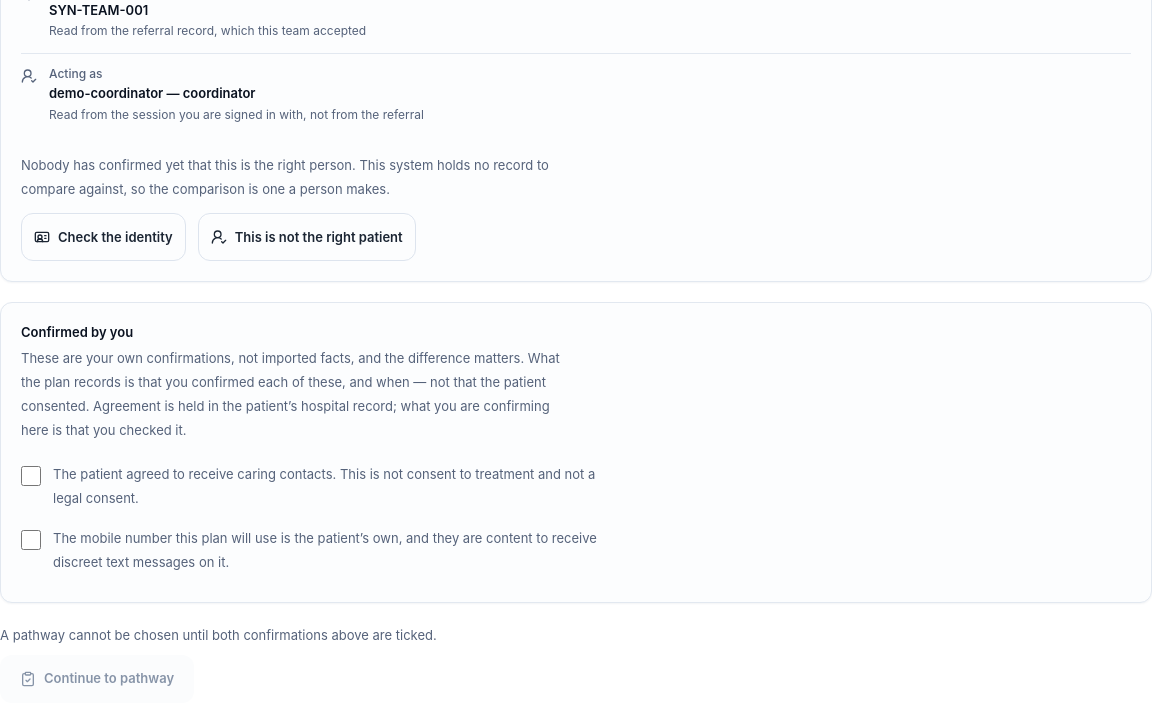
Test: the caring-contacts plan wizard — stage 1, agreement (Ruling [112]) › shows roles in plain words, never as the domain's identifiers
(page scrolled)
Click the 1st checkbox at (31, 476), box [21,466,41,486]
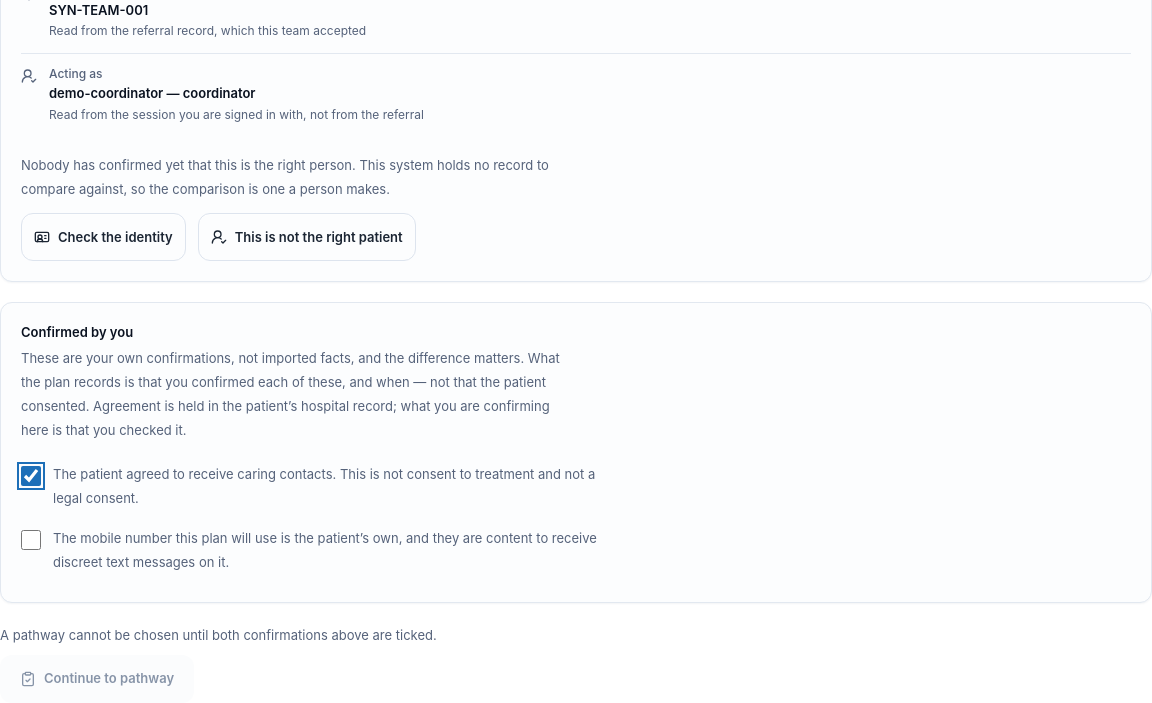
Click the 2nd checkbox at (31, 540), box [21,530,41,550]
(page scrolled)
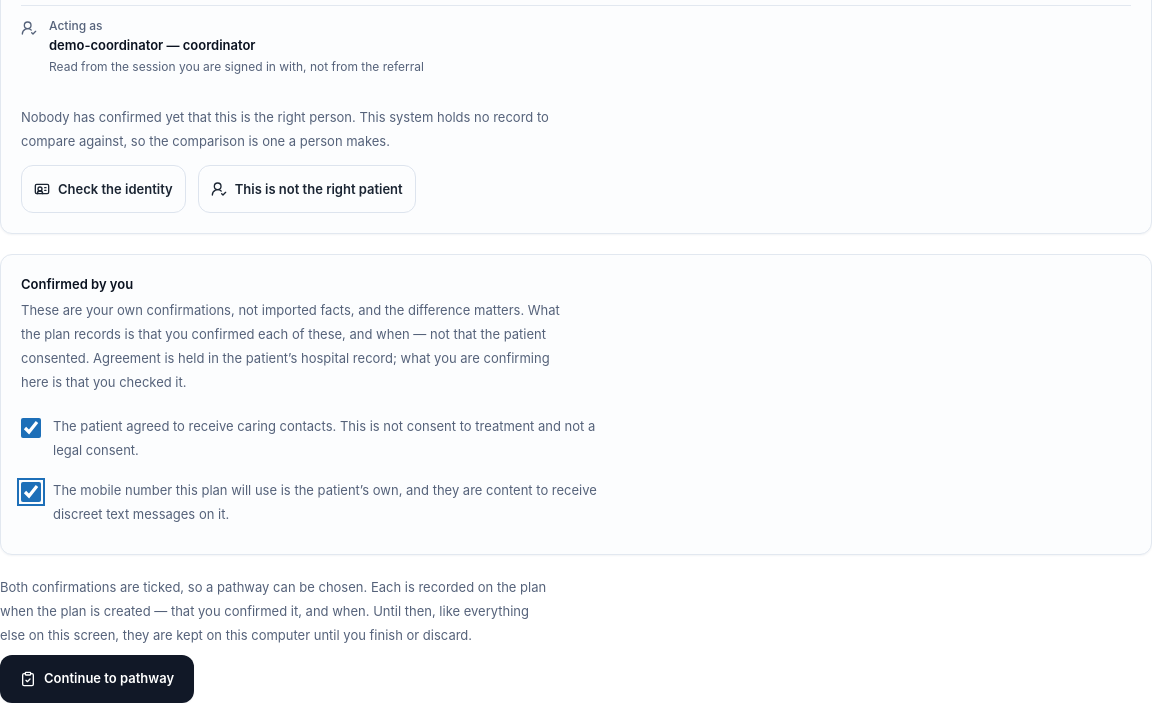
Click the button "Continue to pathway" at (97, 678), box [0,654,194,702]
(page scrolled)
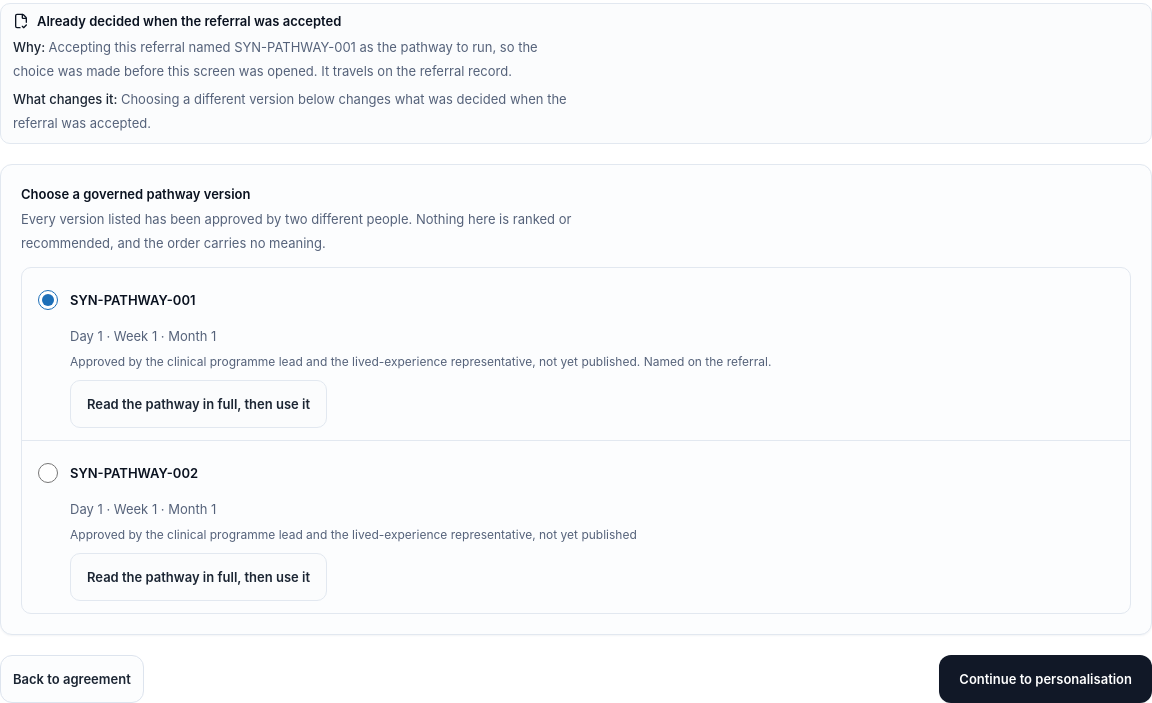
Now the text "Approved by the clinical programme lead and the lived-experience representative" is shown, box [70,354,771,369]
